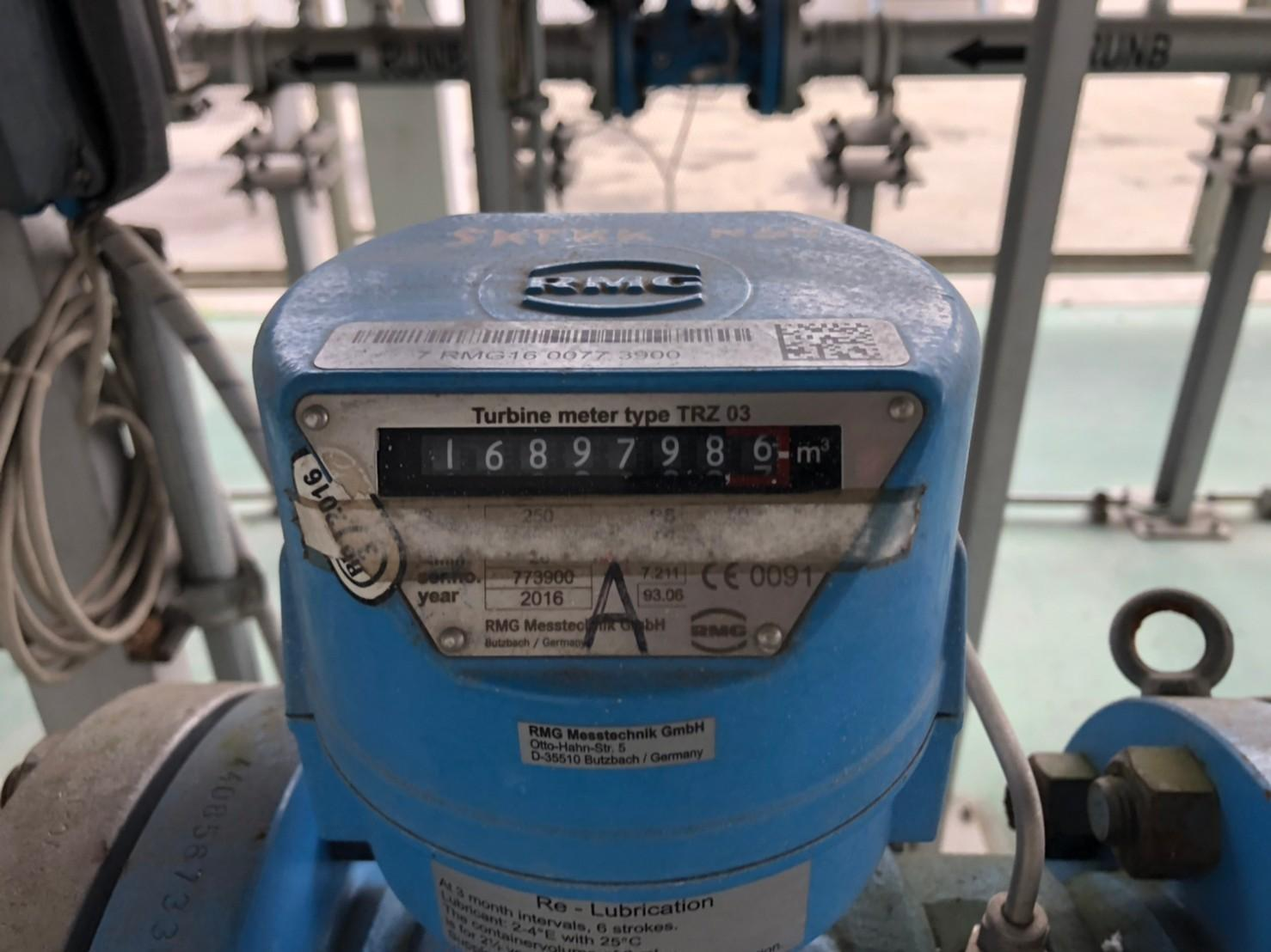analog_dial: (378, 426, 843, 493)
